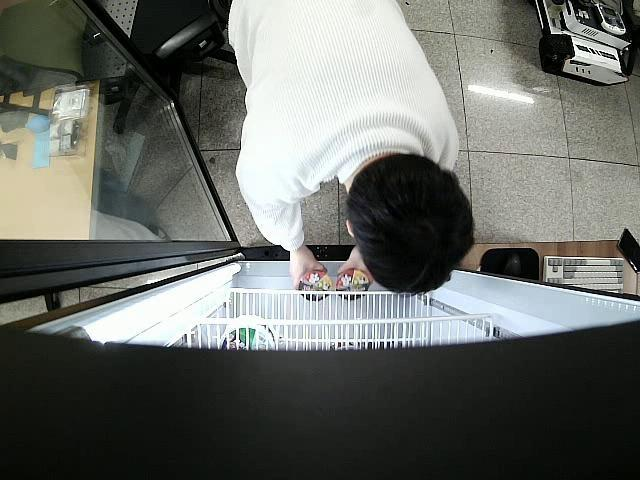08_buldak_S: (336, 271, 370, 300), (300, 271, 330, 300)
